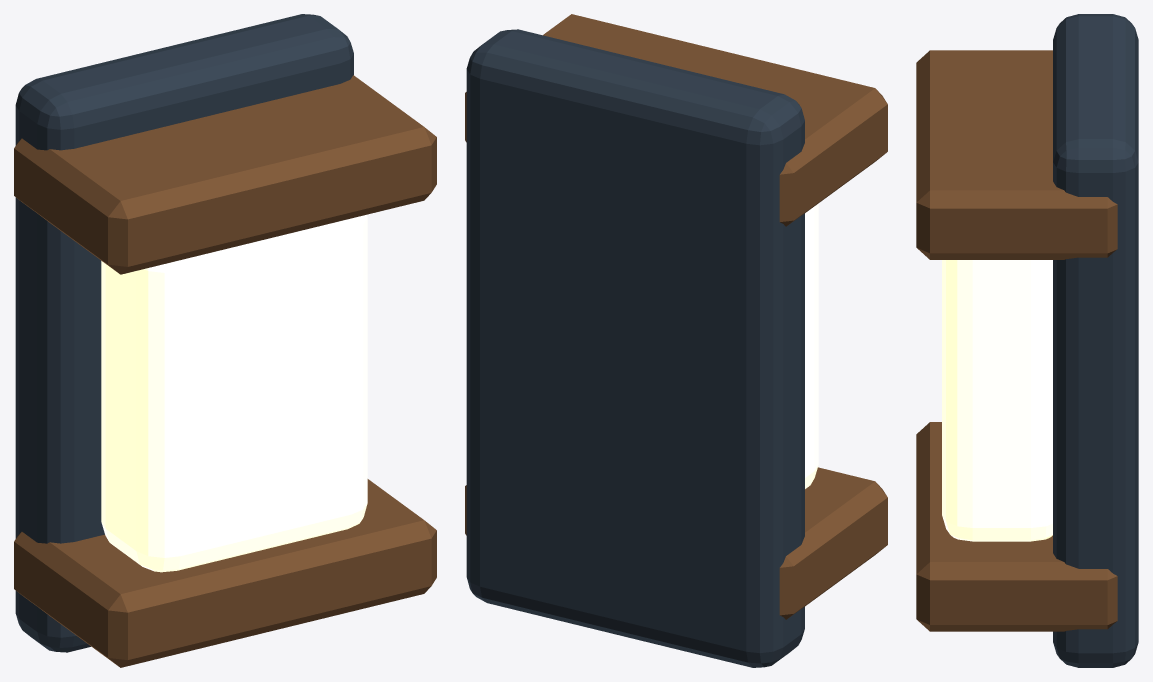
Rendered from wall_lamp.glb.
3 views of the same model, side by side, from view 1: azimuth 30°, elevation 25°; view 2: azimuth 150°, elevation 25°; view 3: azimuth 270°, elevation 25° (orthographic). The views are drawn at different scales.
Parts seen in each view (by area): view 1: wall_lamp__oak_dark, wall_lamp__warm_light, wall_lamp__metal; view 2: wall_lamp__metal, wall_lamp__oak_dark, wall_lamp__warm_light; view 3: wall_lamp__oak_dark, wall_lamp__metal, wall_lamp__warm_light.
Part boxes in pixels (bbox=[...]): wall_lamp__oak_dark: bbox=[14, 75, 436, 667]; wall_lamp__warm_light: bbox=[101, 214, 367, 572]; wall_lamp__metal: bbox=[15, 14, 353, 652]; wall_lamp__metal: bbox=[466, 29, 804, 667]; wall_lamp__oak_dark: bbox=[465, 14, 887, 619]; wall_lamp__warm_light: bbox=[805, 203, 818, 488]; wall_lamp__oak_dark: bbox=[916, 50, 1117, 631]; wall_lamp__metal: bbox=[1053, 14, 1138, 667]; wall_lamp__warm_light: bbox=[942, 260, 1052, 541].
Size of the model in its own units: 0.21 by 0.34 by 0.13.
